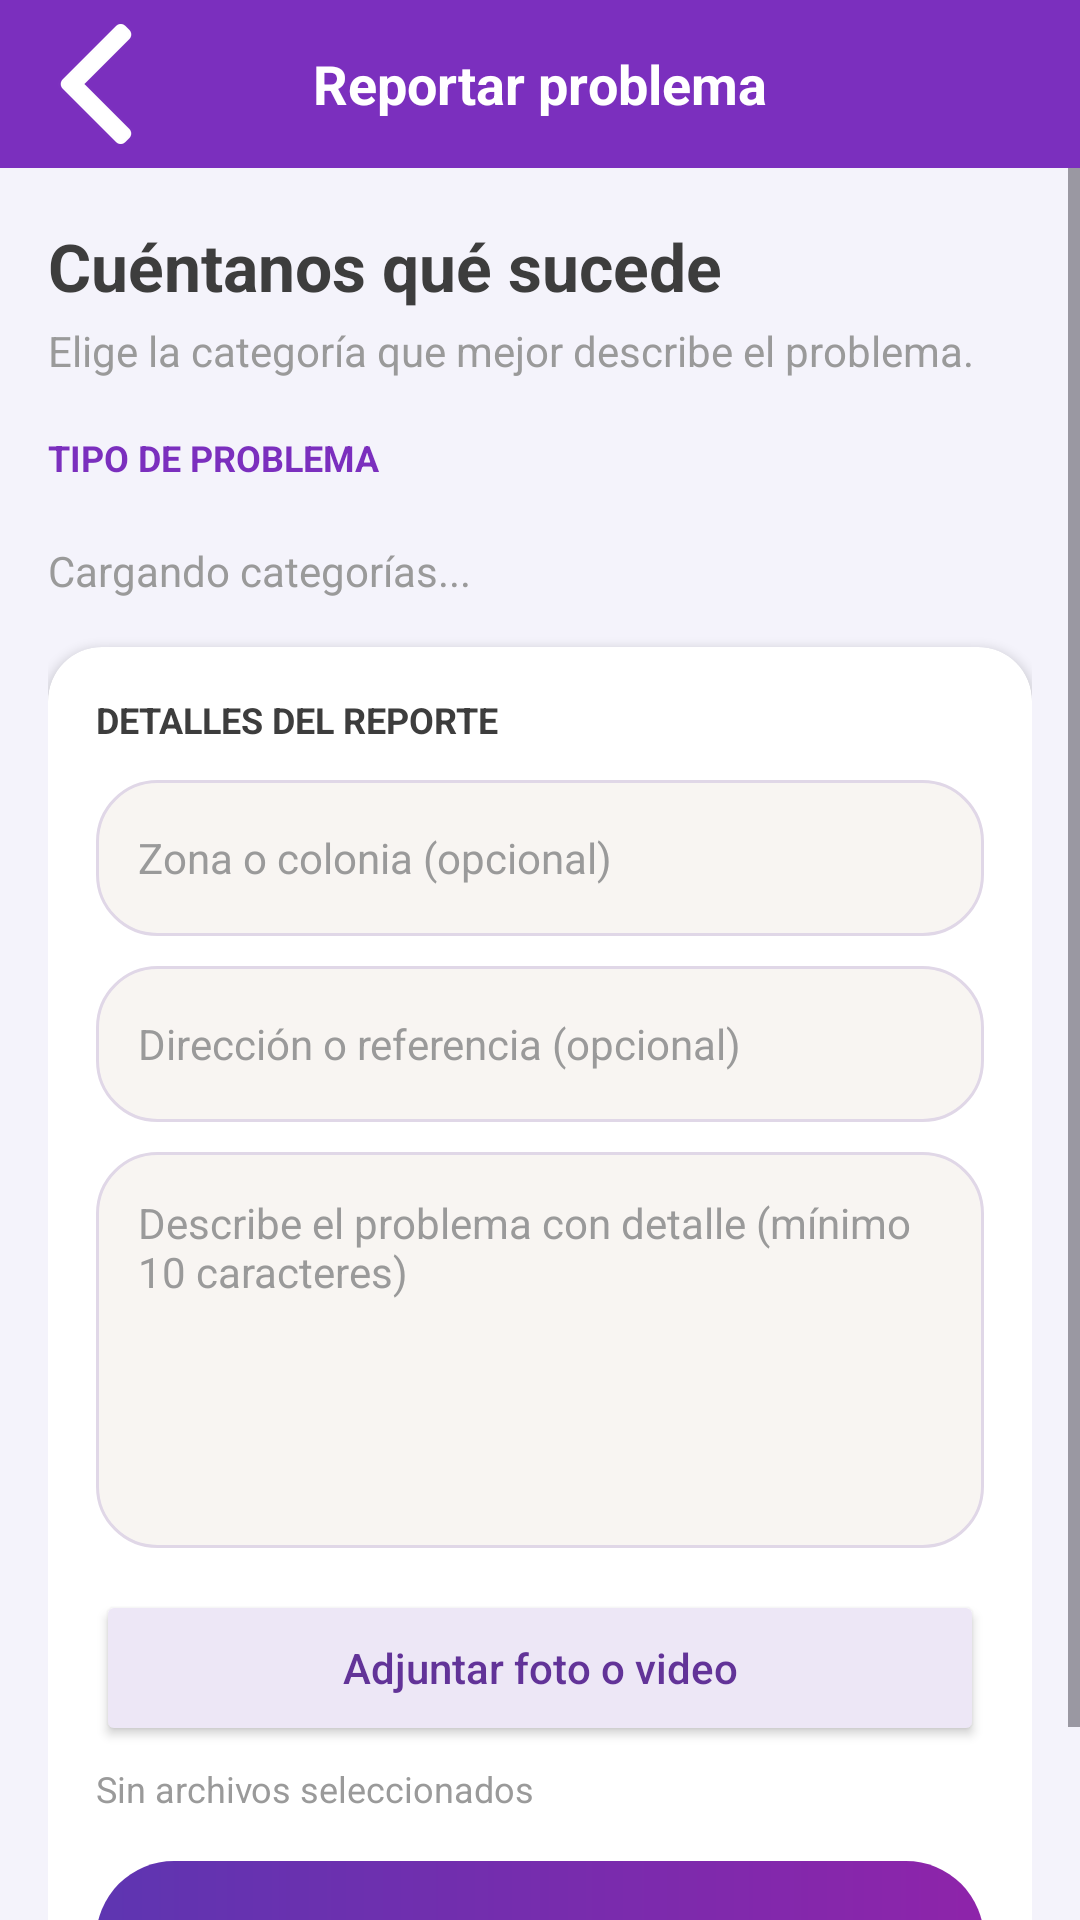

Icons on this 1080w x 1920h Android screen, each with its box as box=[x1, y1, x2, y2]:
Volver: box=[60, 24, 132, 144]
